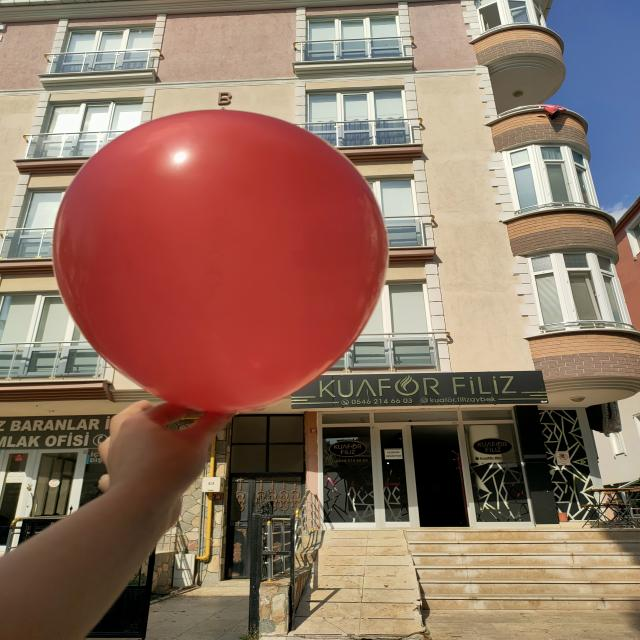red: (53, 111, 387, 416)
